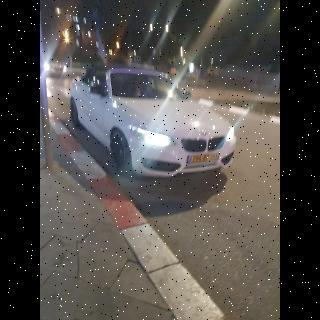LicensePlate: (190, 153, 220, 163)
